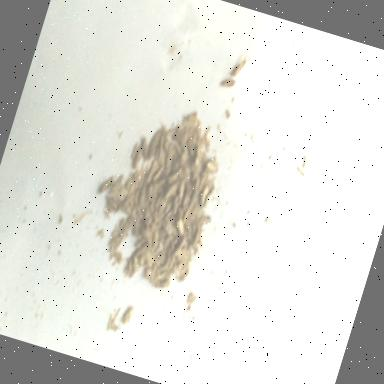pbw: (146, 128, 160, 161), (122, 182, 137, 209), (108, 173, 124, 196), (144, 160, 158, 186), (230, 58, 245, 80), (174, 180, 187, 204), (164, 180, 178, 201), (131, 146, 143, 170), (166, 165, 180, 185), (138, 140, 152, 160), (172, 218, 186, 238), (162, 146, 174, 168), (136, 188, 148, 210), (200, 131, 213, 151), (98, 176, 112, 194), (197, 186, 208, 208), (191, 229, 202, 250), (121, 307, 133, 326), (134, 240, 148, 256), (219, 77, 235, 90), (142, 251, 155, 267), (152, 166, 164, 182), (170, 195, 180, 214), (205, 160, 219, 172), (134, 236, 146, 250), (129, 257, 141, 271), (154, 278, 168, 290), (132, 220, 142, 236), (129, 142, 138, 158), (185, 111, 196, 123), (126, 260, 135, 274), (106, 316, 112, 330)
